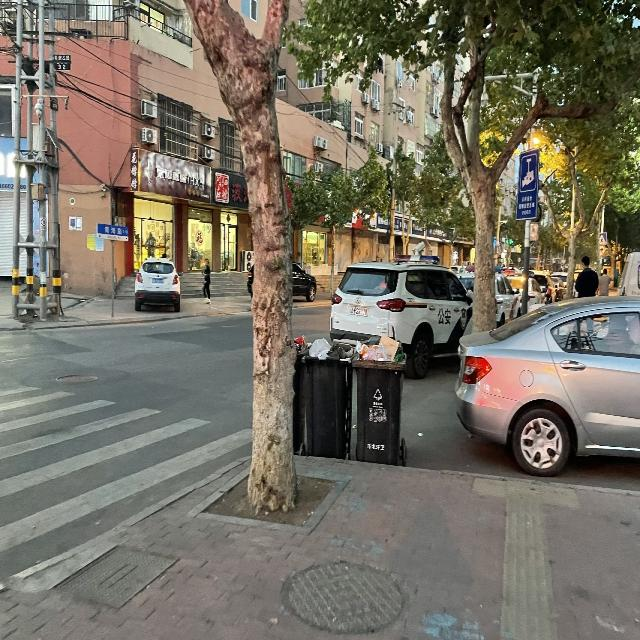overflow: (353, 333, 406, 465), (304, 338, 352, 458)
